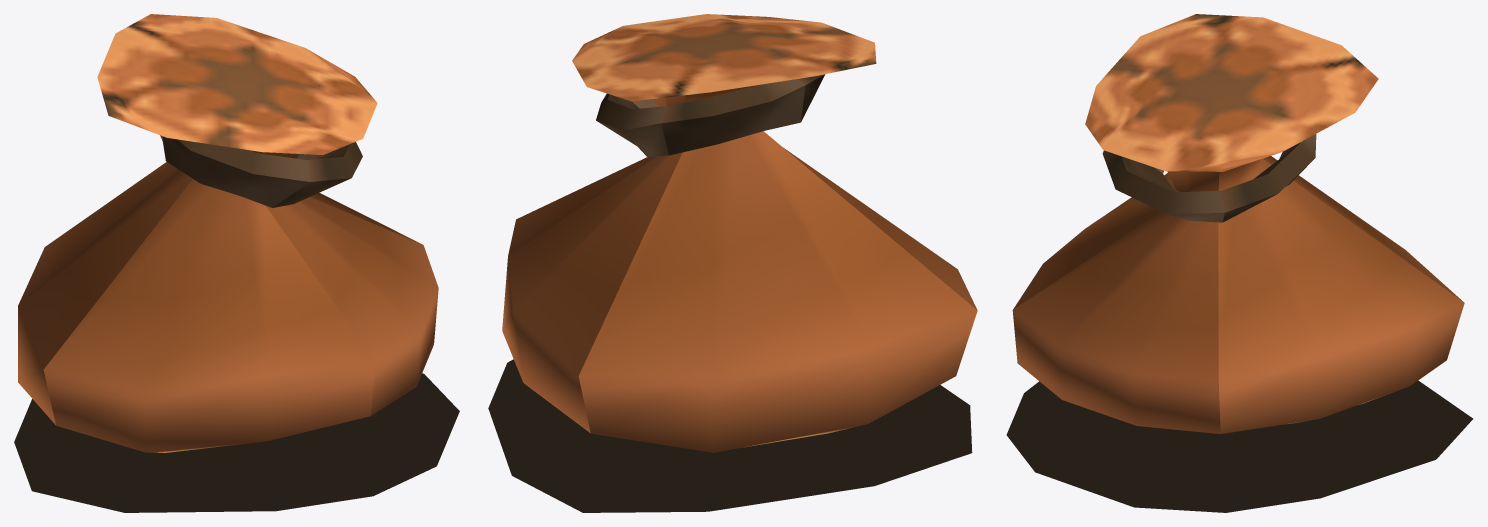
The model's file is item_bag.fbx.
3 views of the same model, side by side, from view 1: azimuth 30°, elevation 25°; view 2: azimuth 150°, elevation 25°; view 3: azimuth 270°, elevation 25° (orthographic). The views are drawn at different scales.
Parts seen in each view (by area): view 1: Box001, Object001; view 2: Box001, Object001; view 3: Box001, Object001.
Boxes of the visible parts, x1,y1,x2,y2 form: Box001: (18, 14, 438, 452); Object001: (14, 373, 459, 512); Box001: (502, 14, 977, 452); Object001: (488, 359, 972, 512); Box001: (1012, 14, 1464, 433); Object001: (1006, 380, 1473, 512).
Size of the model in its own units: 1.8 by 1.8 by 1.49.
1 material, 1 textured.
